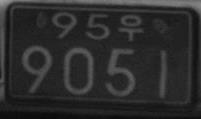0: (62, 46, 95, 96)
1: (148, 50, 178, 99)
5: (105, 47, 136, 98), (86, 12, 111, 40)
9: (20, 44, 53, 94), (51, 10, 77, 39)
우: (118, 13, 144, 42)
